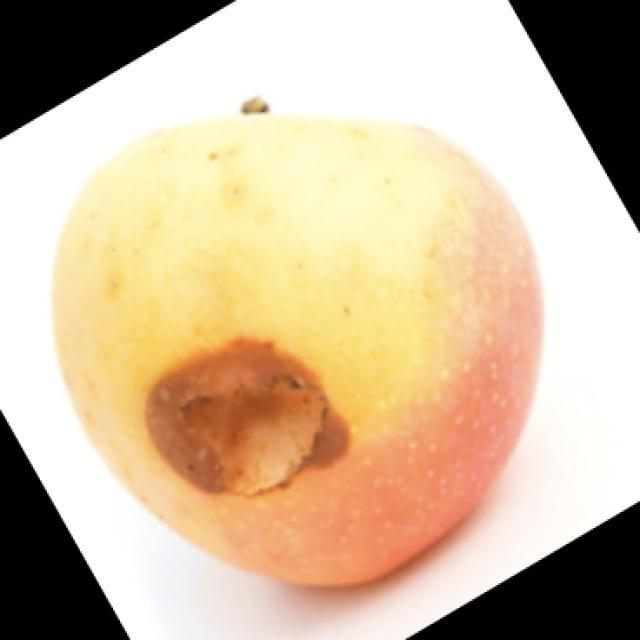Rotten: (69, 105, 528, 623)
